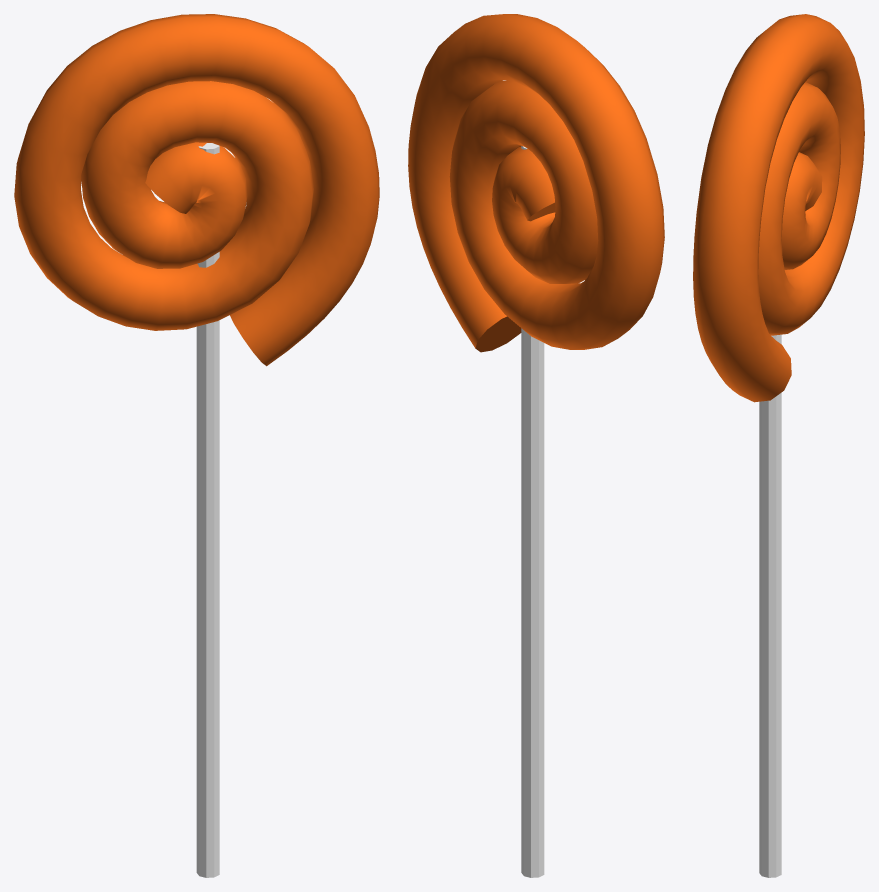
File: 025_Candy_GiantPop_02.fbx
3 views of the same model, side by side, from view 1: azimuth 30°, elevation 25°; view 2: azimuth 150°, elevation 25°; view 3: azimuth 270°, elevation 25° (orthographic). The views are drawn at different scales.
Visible parts, largest first — view 1: BézierCurve.009, Cylinder.035; view 2: BézierCurve.009, Cylinder.035; view 3: BézierCurve.009, Cylinder.035.
Part boxes in pixels (x1,y1,x2,y2): BézierCurve.009: (14, 14, 379, 366); Cylinder.035: (196, 143, 219, 877); BézierCurve.009: (408, 14, 664, 352); Cylinder.035: (521, 146, 544, 877); BézierCurve.009: (693, 14, 864, 402); Cylinder.035: (759, 334, 781, 877).
Bounding box in the file's own units: 145 × 391 × 72.7.
